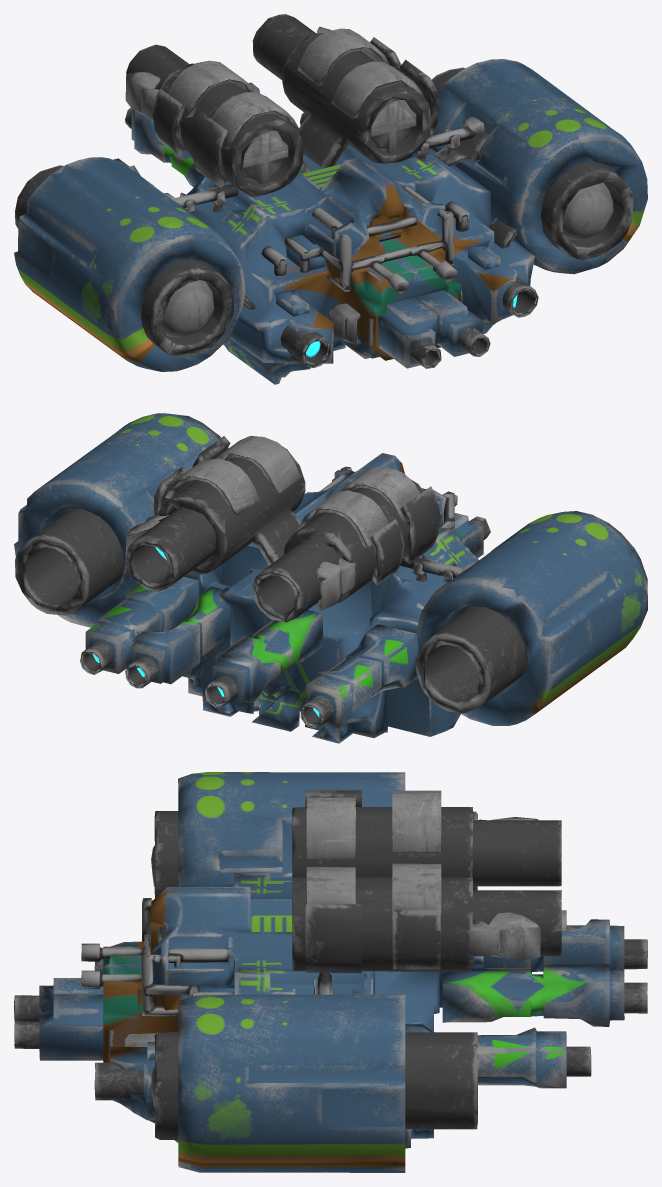
3 views of the same model, one above another, from view 1: azimuth 30°, elevation 25°; view 2: azimuth 150°, elevation 25°; view 3: azimuth 270°, elevation 25° (orthographic). The views are drawn at different scales.
Parts seen in each view (by area): view 1: Camada_4, Camada_7, Camada_1, Camada_9, Camada_8; view 2: Camada_4, Camada_7, Camada_1, Camada_9, Camada_8; view 3: Camada_4, Camada_7, Camada_1, Camada_9, Camada_8.
Boxes of the visible parts, x1,y1,x2,y2 form: Camada_4: (14,59,647,371); Camada_7: (15,14,633,368); Camada_1: (186,145,534,384); Camada_9: (125,26,613,377); Camada_8: (175,127,475,347); Camada_4: (14,413,647,727); Camada_7: (15,436,526,728); Camada_1: (182,453,478,743); Camada_9: (92,436,475,717); Camada_8: (319,466,469,578); Camada_4: (39,772,624,1172); Camada_7: (14,790,647,1139); Camada_1: (103,873,483,1148); Camada_9: (125,790,540,1107); Camada_8: (81,898,331,1062).
Size of the model in its own units: 2 by 0.8438 by 1.8.
5 materials, 5 textured.
